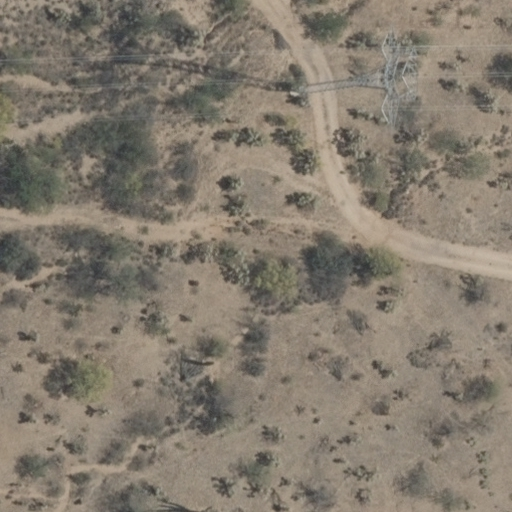TT: (271, 21, 436, 149)
